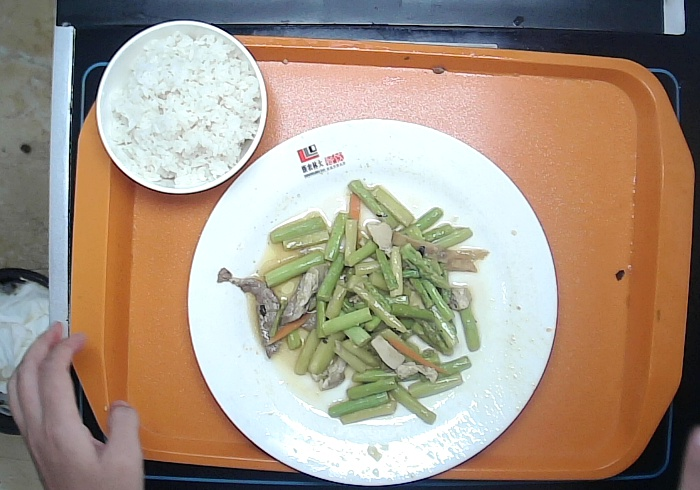ZNLD-Da_Yuan_Pan: (185, 115, 562, 486)
ZNLD-Fan_Wan: (94, 18, 270, 198)
